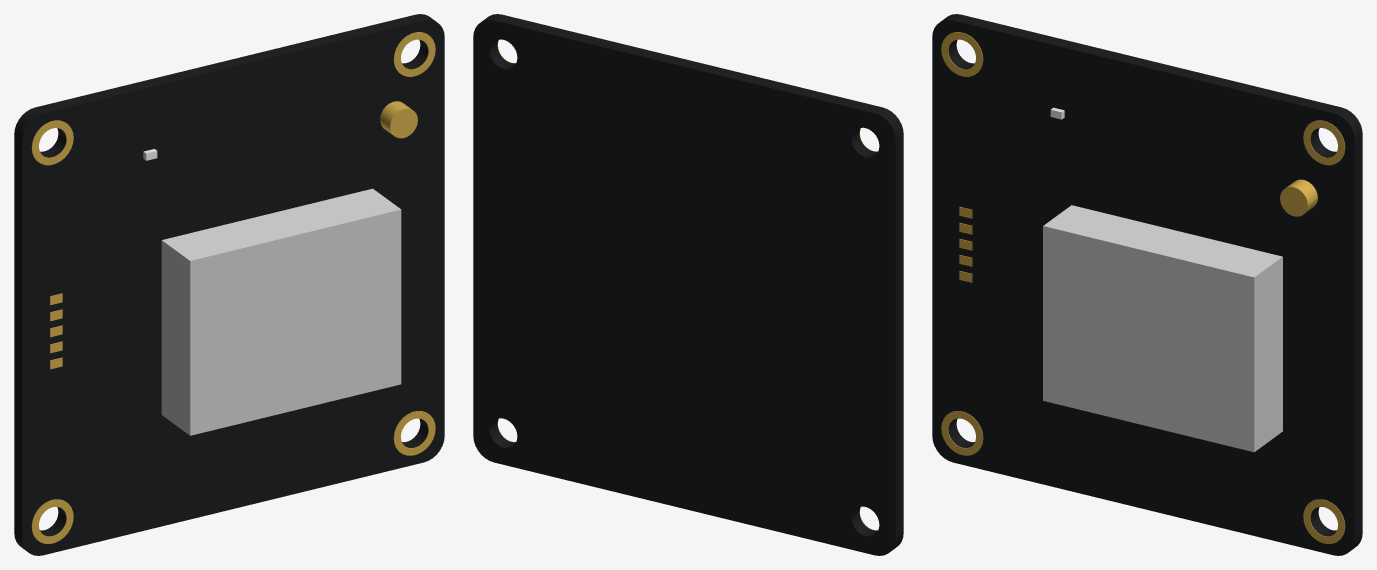
The model's file is betafpv-a03-vtx.glb.
3 renders of one model, left to right at view 1: azimuth 30°, elevation 25°; view 2: azimuth 150°, elevation 25°; view 3: azimuth 330°, elevation 25°, orthographic.
Visible parts, largest first — view 1: board, rf_shield, ufl_connector, mount_hole_2, mount_hole_3, mount_hole_1, mount_hole_4; view 2: board; view 3: board, rf_shield, ufl_connector, mount_hole_1, mount_hole_4, mount_hole_2, mount_hole_3.
Boxes of the visible parts, x1,y1,x2,y2 form: board: (14,14,444,555); rf_shield: (161,188,401,435); ufl_connector: (380,101,417,138); mount_hole_2: (31,120,73,165); mount_hole_3: (31,499,73,543); mount_hole_1: (393,32,435,76); mount_hole_4: (393,411,435,455); board: (473,14,903,555); board: (932,14,1362,555); rf_shield: (1043,205,1282,452); ufl_connector: (1280,179,1317,216); mount_hole_1: (1303,120,1345,165); mount_hole_4: (1303,499,1345,543); mount_hole_2: (941,32,983,76); mount_hole_3: (941,411,983,455).
Size of the model in its own units: 30.34 by 30.34 by 4.55.
